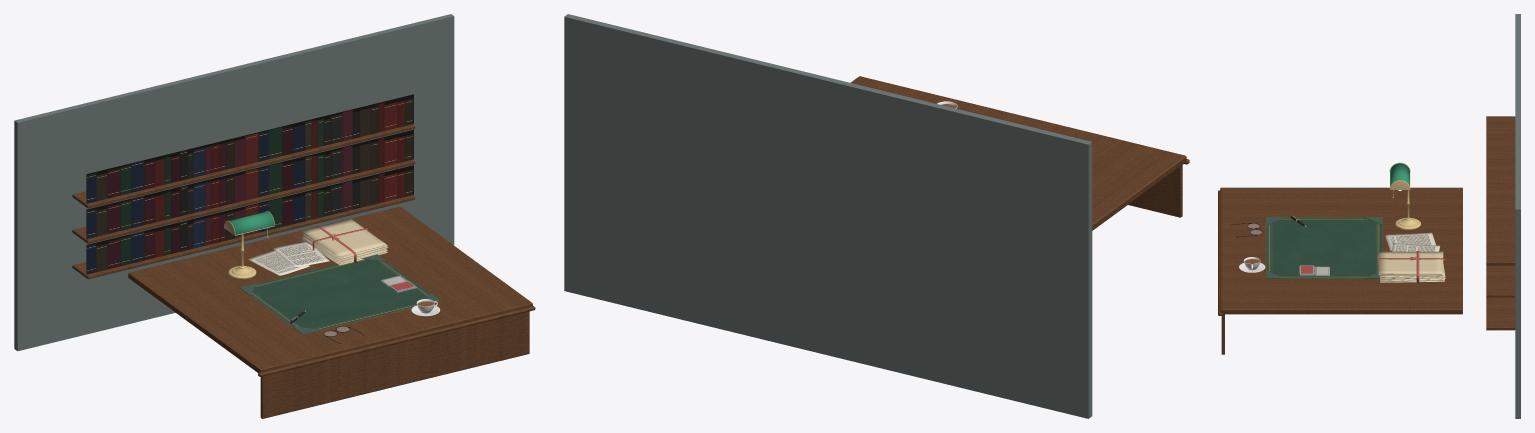
Rendered from desk.glb.
The picture shows the model from 3 angles, left to right: view 1: azimuth 30°, elevation 25°; view 2: azimuth 150°, elevation 25°; view 3: azimuth 270°, elevation 25°; orthographic projection. The views are drawn at different scales.
Visible parts, largest first — view 1: wall, desk-top, books-2, books-1, books-0, blotter, folder-back-0, shelf-2, shelf-1, shelf-0, paper-b, paper-a (+2 smaller); view 2: wall, desk-top; view 3: desk-top, blotter, shelf-2, wall, folder-back-0, shelf-0, shelf-1, lamp-base, paper-a, paper-b, blotter-corner--1-1, lamp-shade.
Part boxes in pixels (<box>): wall: <box>14,14,454,351</box>; desk-top: <box>128,206,535,418</box>; books-2: <box>86,94,413,203</box>; books-1: <box>86,129,413,239</box>; books-0: <box>86,165,413,274</box>; blotter: <box>250,259,429,329</box>; folder-back-0: <box>301,219,387,265</box>; shelf-2: <box>72,124,415,208</box>; shelf-1: <box>72,159,415,243</box>; shelf-0: <box>72,195,415,279</box>; paper-b: <box>273,242,329,267</box>; paper-a: <box>248,250,309,275</box>; wall: <box>564,14,1092,418</box>; desk-top: <box>850,76,1189,230</box>; desk-top: <box>1218,187,1462,354</box>; blotter: <box>1266,217,1382,278</box>; shelf-2: <box>1486,116,1515,265</box>; wall: <box>1515,14,1520,418</box>; folder-back-0: <box>1377,251,1445,282</box>; shelf-0: <box>1486,297,1515,330</box>; shelf-1: <box>1486,265,1515,297</box>; lamp-base: <box>1389,162,1420,229</box>; paper-a: <box>1385,232,1435,250</box>; paper-b: <box>1391,243,1439,251</box>; blotter-corner--1-1: <box>1266,217,1382,278</box>; lamp-shade: <box>1390,163,1409,185</box>.
Bounding box in the file's own units: 8 × 4 × 5.24.
25 materials, 7 textured.
